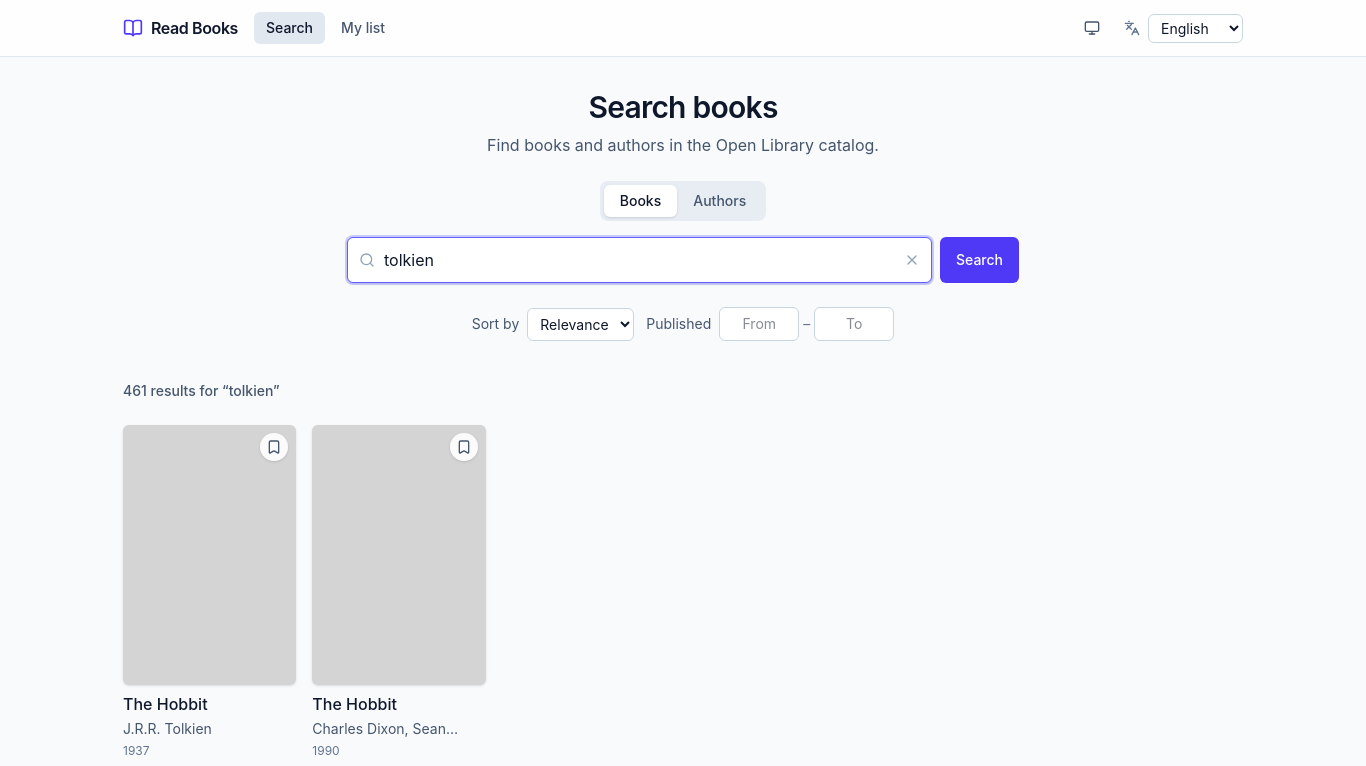
Test: search tabs › switches to author search, keeping the query
Click the link "Authors": (720, 200) [693,192,746,209]
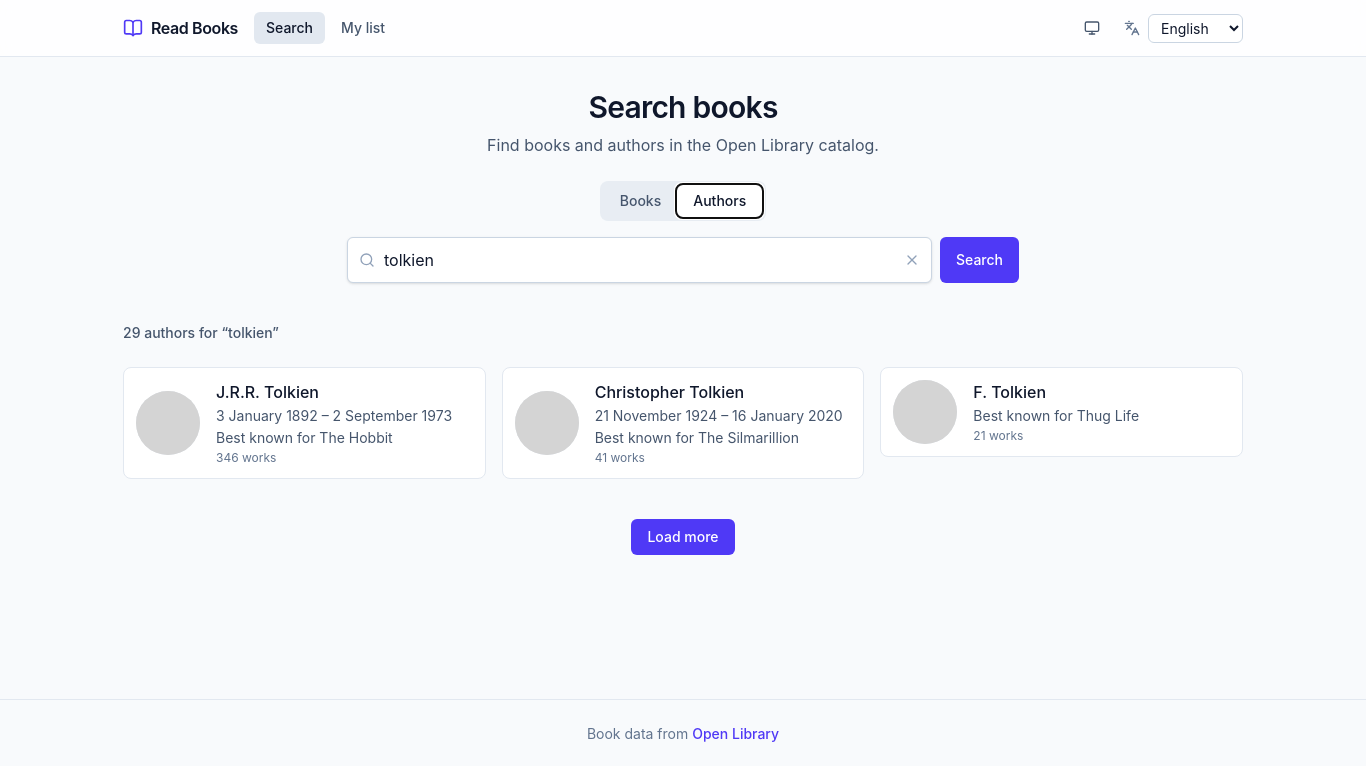
Check: the text "29 authors for “tolkien”" is shown, box [123,324,279,341]
Check: the text "3 January 1892 – 2 September 1973" is shown, box [216,406,452,426]
Check: the text "Best known for The Hobbit" is shown, box [216,429,393,446]
